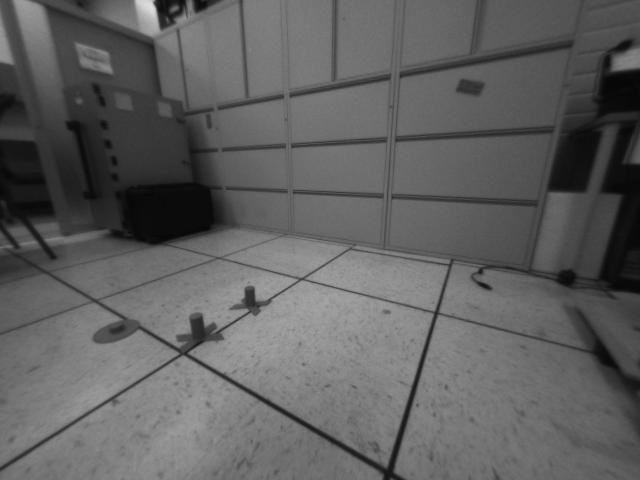X: (175, 312, 224, 354), (230, 286, 273, 317)
